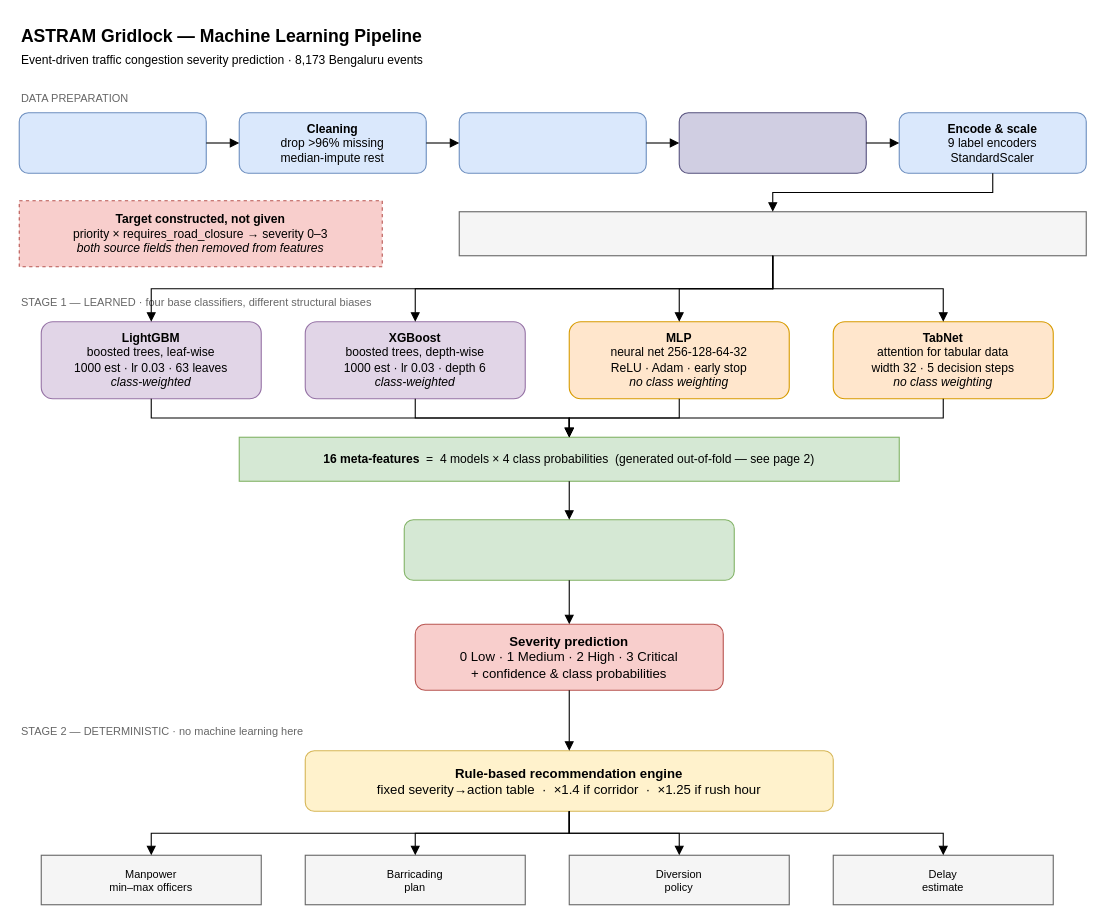
Image size: 1106x924. Some labels were removed from this diagram. The centre of each missing label's shape, as x and y in pixels:
Feature engineering 30 features spatial · temporal · context: point 552,142
K-Means (K=20) unsupervised lat/lon → location_cluster: point 772,142
Raw event log 8,173 × 46 columns: point 112,142
Stacked meta-learner (LightGBM) learns how much to trust each base model: point 568,549
Stratified 80/20 split · 6,538 train / 1,635 test · class proportions preserved: point 772,233
